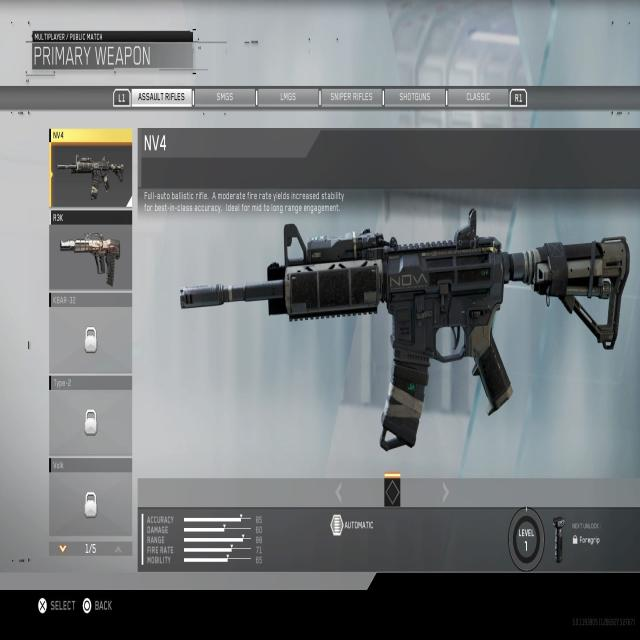Rifle: (179, 210, 630, 452), (60, 232, 120, 287), (57, 155, 124, 200)
